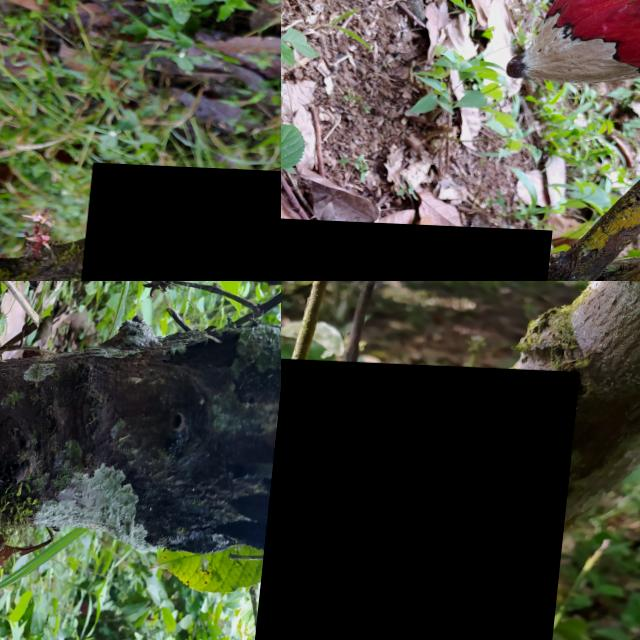Fitoftora: (71, 160, 281, 281)
Monilia: (281, 355, 582, 640), (281, 214, 557, 281), (502, 0, 640, 84)
